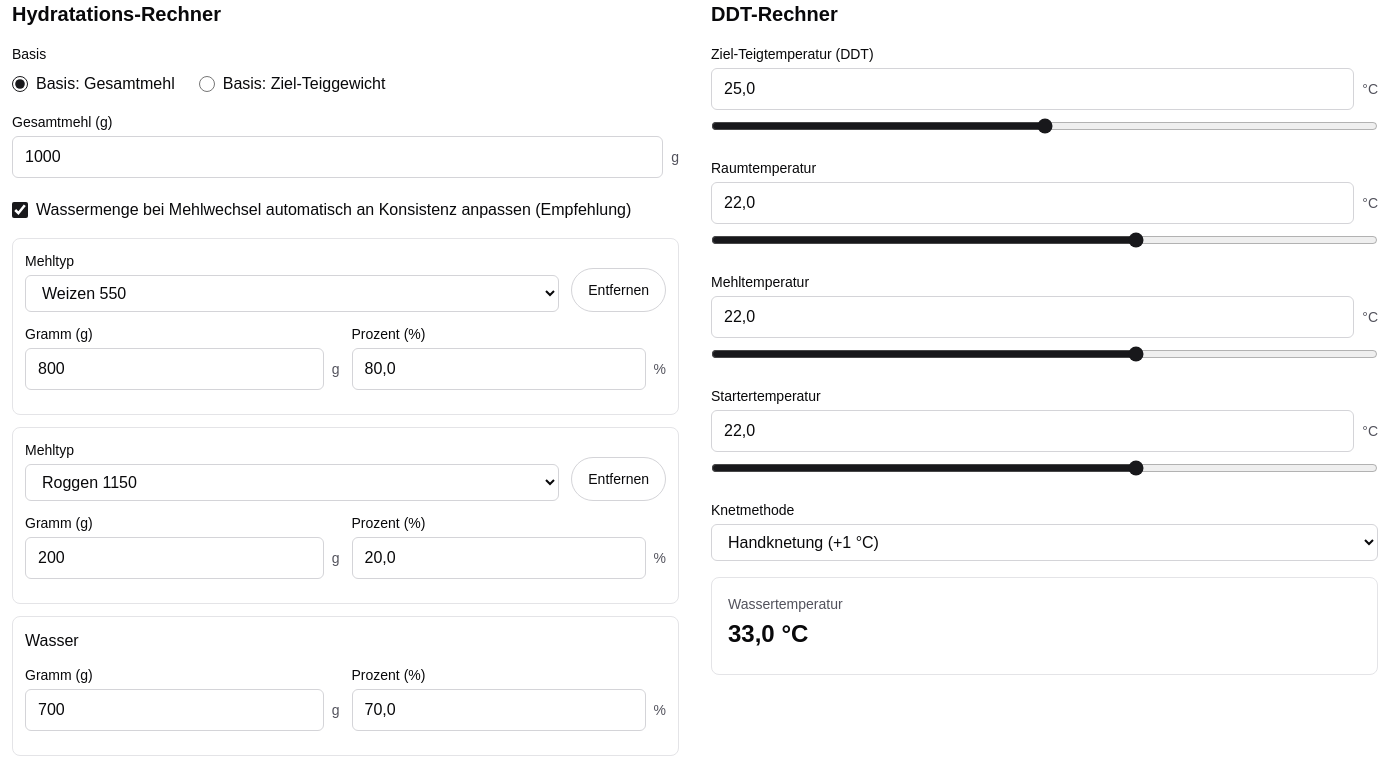
Test case: F010 Hydratations-Rechner: Basis Ziel-Teiggewicht › F010/AC-3 Umschalten belegt „Ziel-Teiggewicht (g)“ mit 1920 vor, 960 halbiert die Gramm
Click the radio button labelled "Basis: Ziel-Teiggewicht". click: {"x": 207, "y": 84}
box: top-left (199, 76), bottom-right (215, 92)
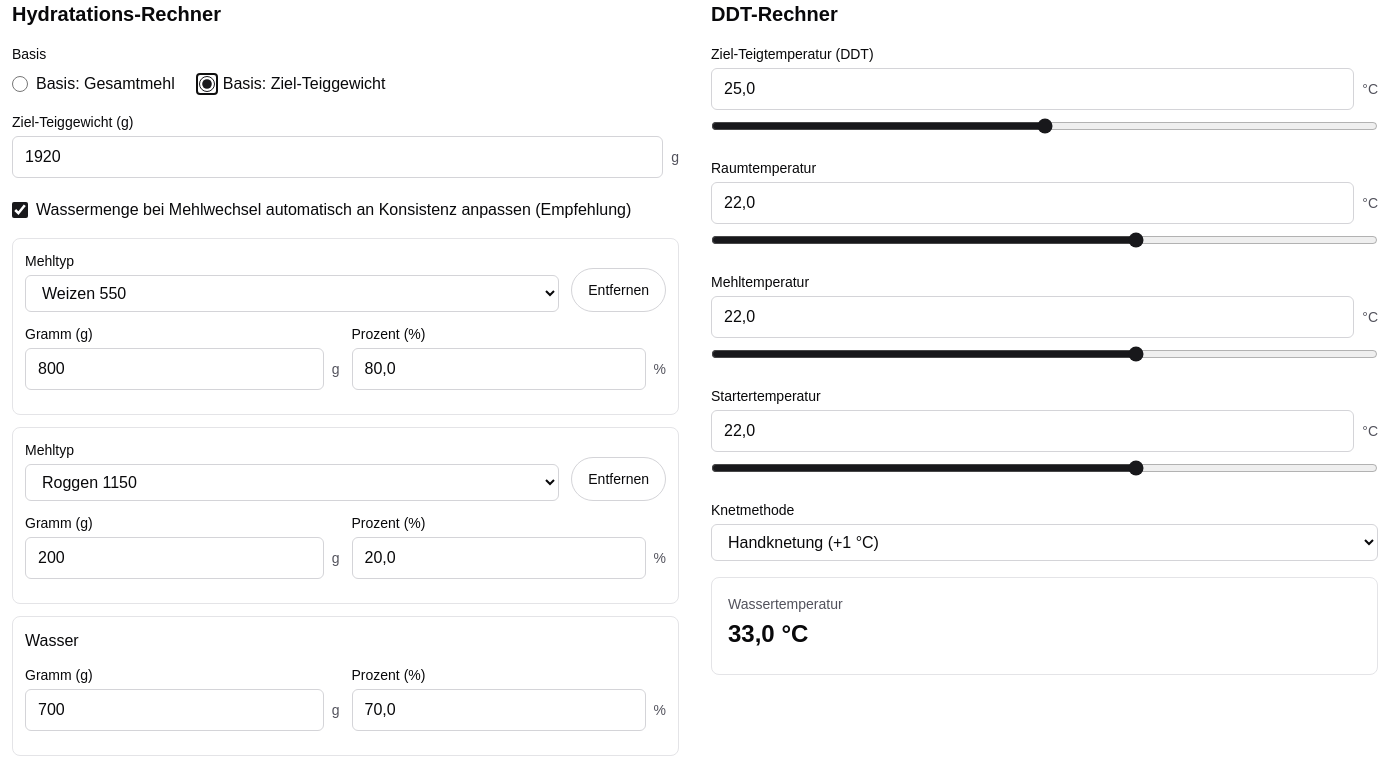
Expected: the radio button labelled "Basis: Ziel-Teiggewicht" is checked, top-left (199, 76), bottom-right (215, 92)
Expected: the field labelled "Ziel-Teiggewicht (g)" holds "1920"
Expected: the label "Gesamtmehl (g)" is gone
Replace the text in the field labelled "Ziel-Teiggewicht (g)" with "960". click: {"x": 338, "y": 157}
box: top-left (12, 136), bottom-right (663, 178)
(page scrolled)
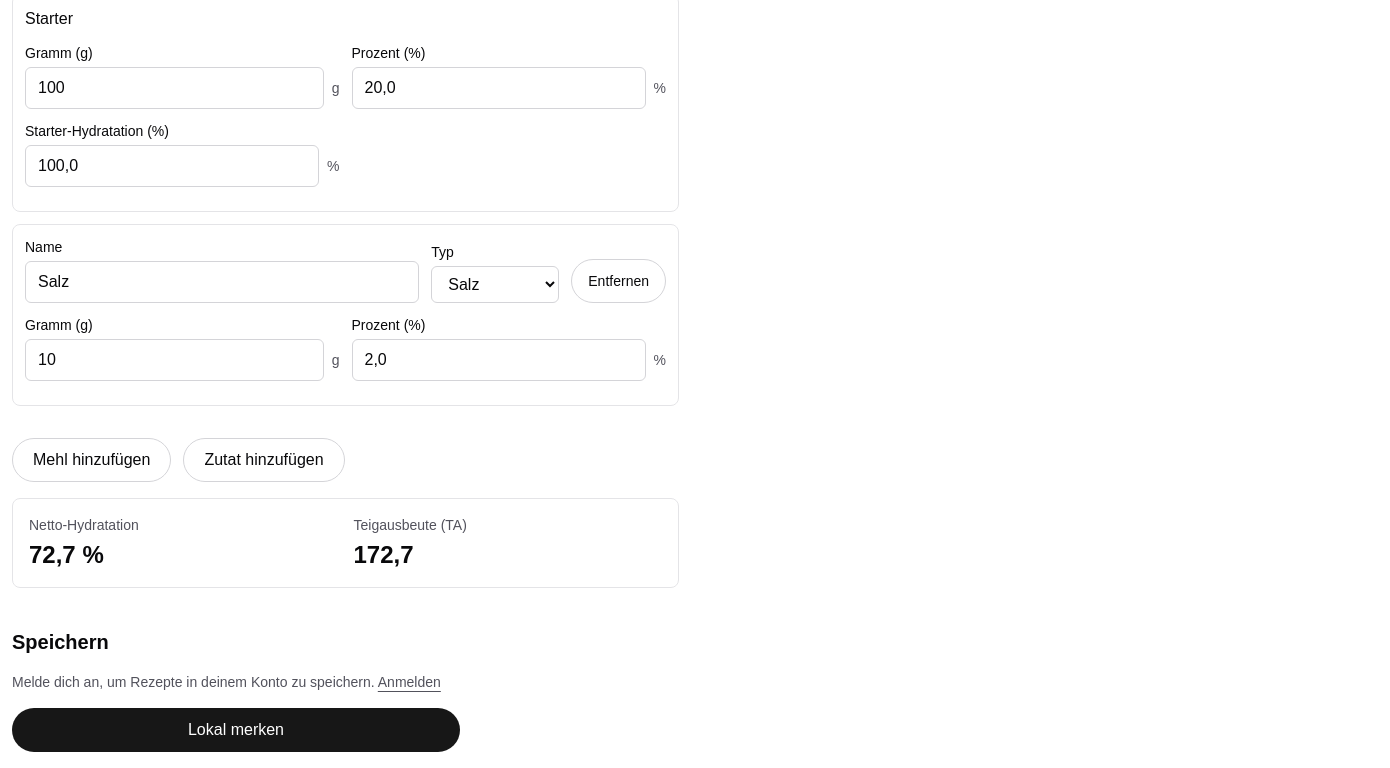
Expected: the 1st field labelled "Gramm (g)" holds "100", top-left (25, 67), bottom-right (324, 109)
Expected: the field labelled "Gramm (g)" below "Name" holds "10", top-left (25, 339), bottom-right (324, 381)
Expected: the text named "Netto-Hydratation" reads "72,7 %", top-left (29, 541), bottom-right (104, 568)
